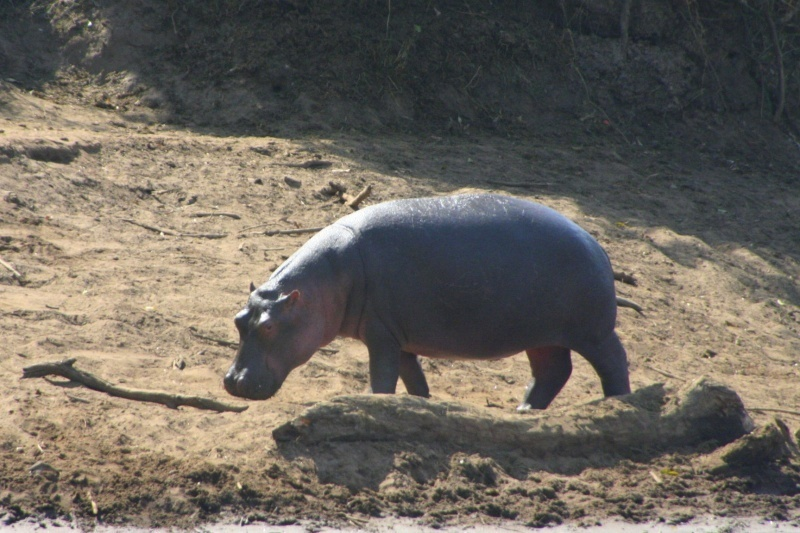hipopotamo: (219, 193, 641, 415)
